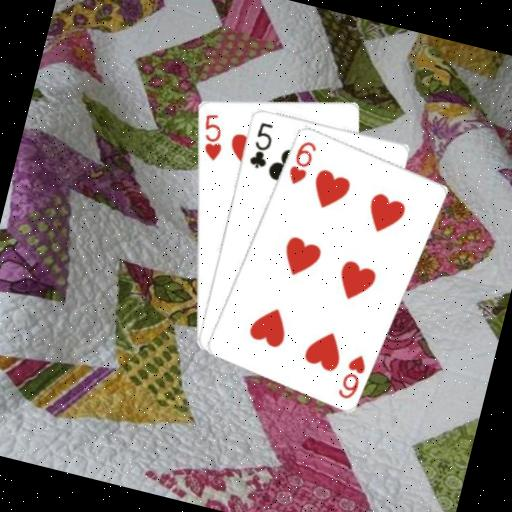5C: (245, 117, 277, 171)
5H: (193, 107, 232, 163)
6H: (282, 134, 319, 189), (333, 348, 370, 403)
